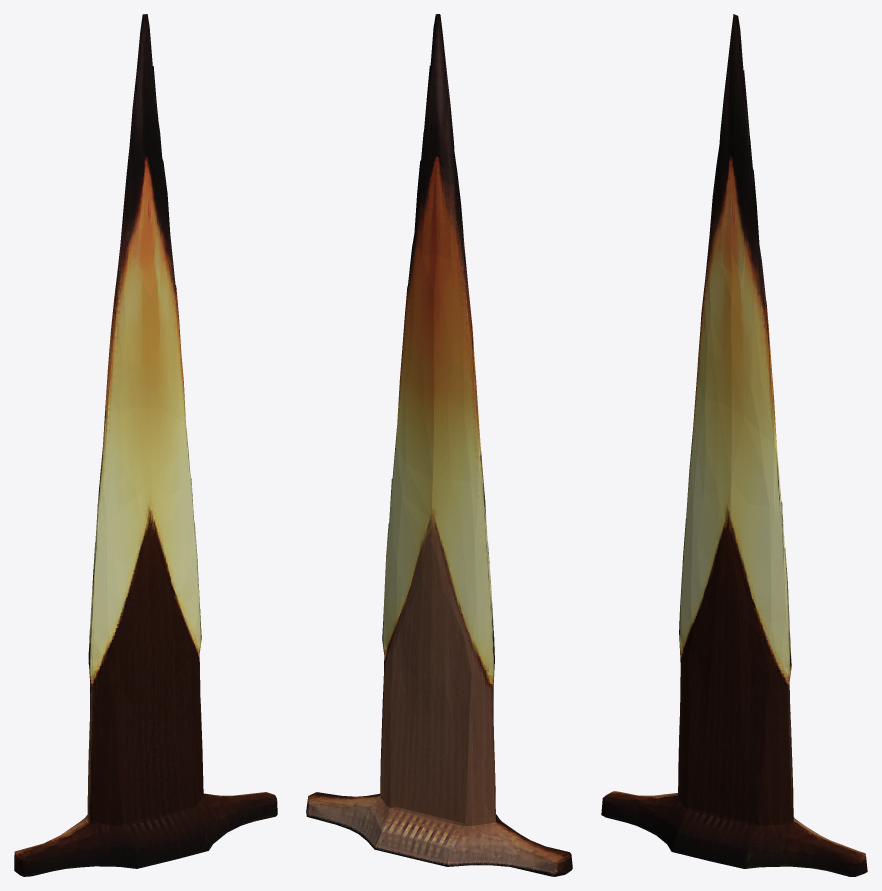
Rendered from wooden-floor-lamp-futuristic.jpeg.glb.
3 renders of one model, left to right at view 1: azimuth 30°, elevation 25°; view 2: azimuth 150°, elevation 25°; view 3: azimuth 330°, elevation 25°, orthographic.
Parts seen in each view (by area): view 1: world; view 2: world; view 3: world.
Part boxes in pixels (<box>): world: <box>14,14,277,876</box>; world: <box>306,14,572,876</box>; world: <box>601,14,867,876</box>.
Bounding box in the file's own units: 0.3278 × 0.9987 × 0.1201.
Materials: 1 (1 with a texture image).
